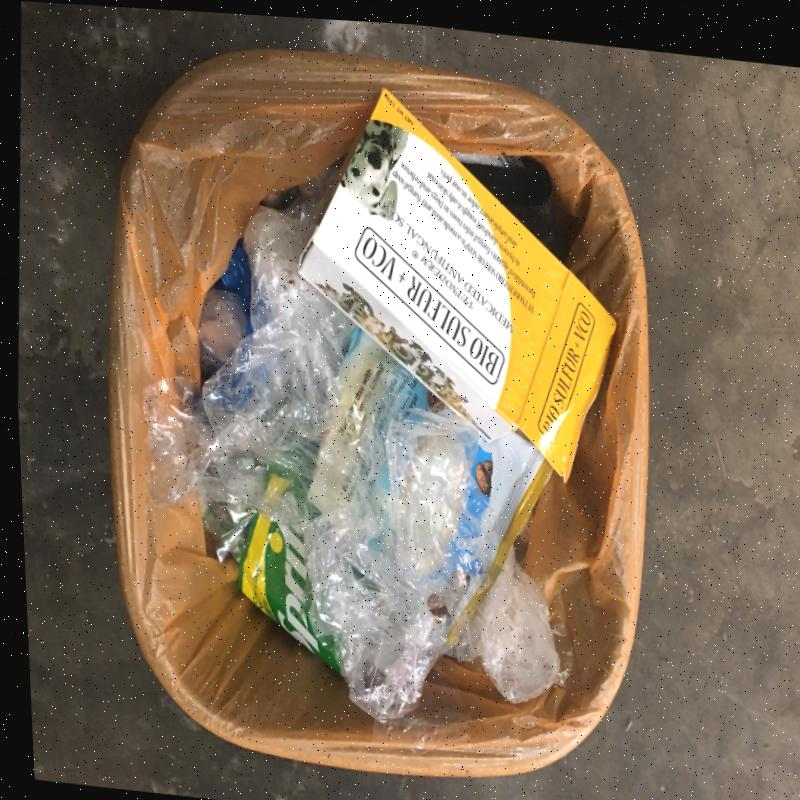cardboard: (295, 87, 616, 480)
plastic bag: (302, 366, 487, 721), (190, 177, 353, 561), (444, 544, 559, 704)
